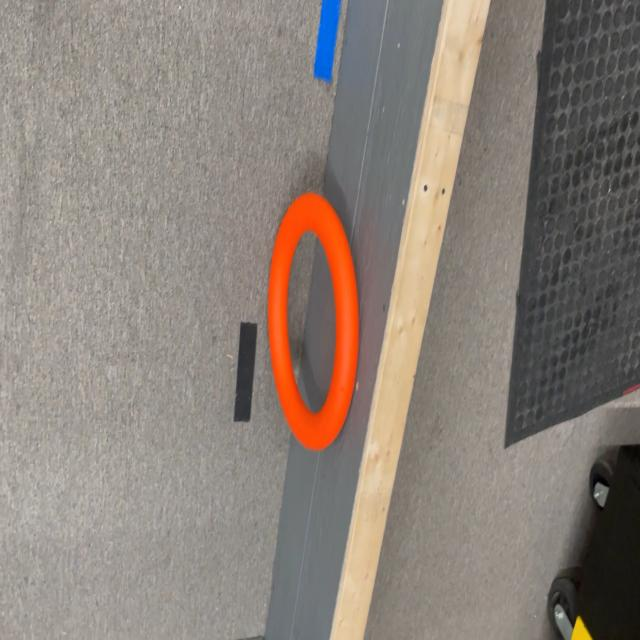note: (267, 193, 360, 449)
